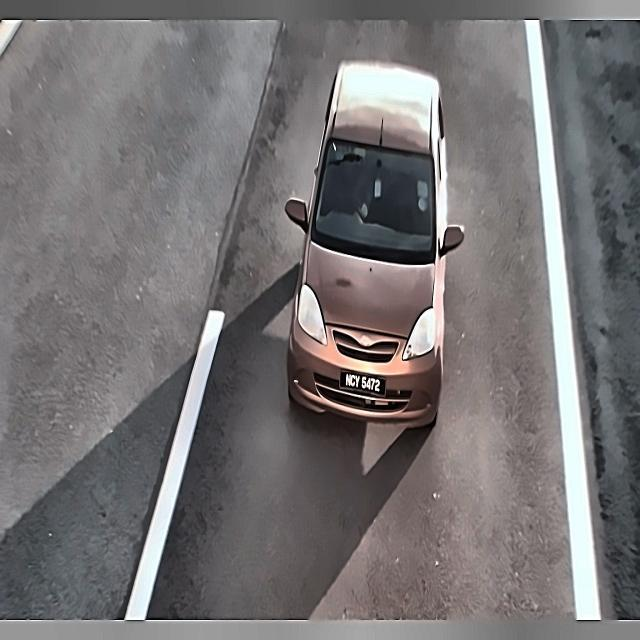car: (333, 369, 389, 398)
